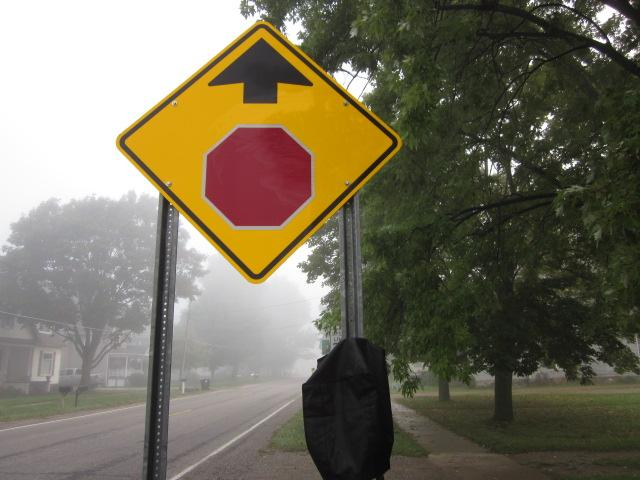stop: (202, 123, 318, 233)
warning: (116, 19, 404, 287)
